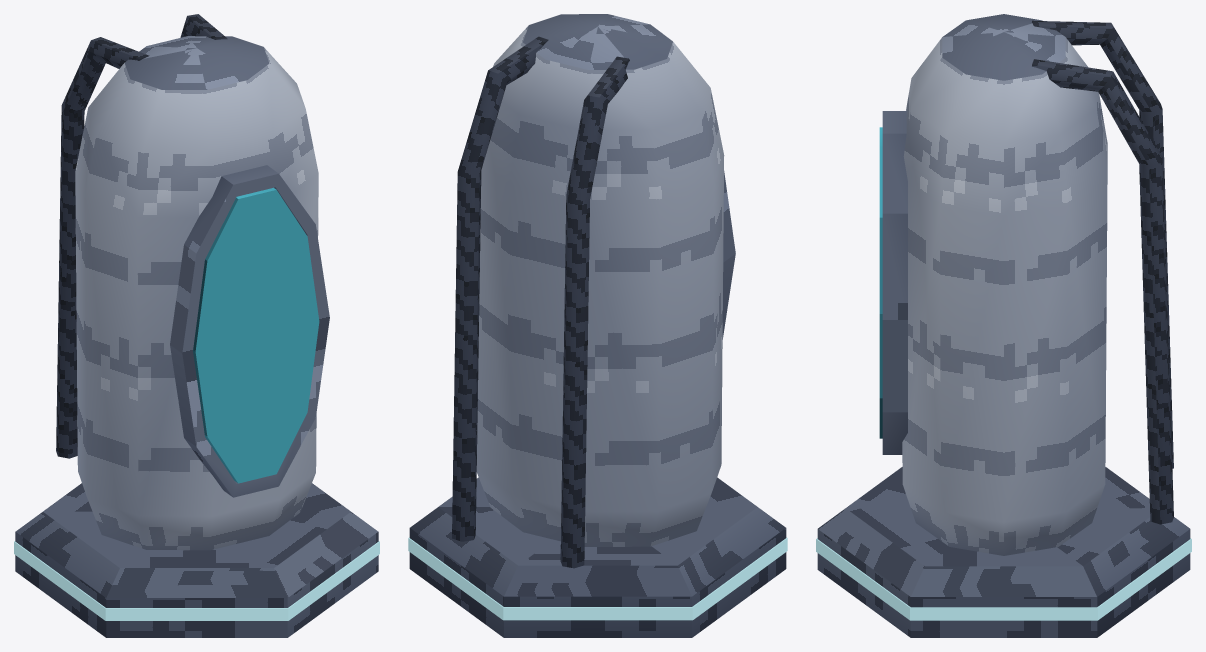
The model's file is tech.cryo_pod.glb.
3 views of the same model, side by side, from view 1: azimuth 30°, elevation 25°; view 2: azimuth 150°, elevation 25°; view 3: azimuth 270°, elevation 25° (orthographic). The views are drawn at different scales.
Parts seen in each view (by area): view 1: kit_shell, kit_plinth, kit_window, kit_frame, kit_hoses, kit_band; view 2: kit_shell, kit_plinth, kit_hoses, kit_band, kit_frame; view 3: kit_shell, kit_plinth, kit_hoses, kit_frame, kit_band, kit_window.
Boxes of the visible parts, x1=… form: kit_shell: x1=75, y1=36, x2=318, y2=550; kit_plinth: x1=15, y1=483, x2=378, y2=637; kit_window: x1=193, y1=187, x2=319, y2=483; kit_frame: x1=170, y1=165, x2=329, y2=497; kit_hoses: x1=56, y1=14, x2=227, y2=458; kit_band: x1=14, y1=541, x2=379, y2=620; kit_shell: x1=476, y1=14, x2=724, y2=546; kit_plinth: x1=409, y1=477, x2=786, y2=637; kit_hoses: x1=452, y1=36, x2=629, y2=568; kit_band: x1=408, y1=537, x2=787, y2=620; kit_frame: x1=722, y1=171, x2=735, y2=339; kit_shell: x1=902, y1=14, x2=1107, y2=555; kit_plinth: x1=817, y1=467, x2=1190, y2=637; kit_hoses: x1=1032, y1=20, x2=1173, y2=524; kit_frame: x1=882, y1=111, x2=907, y2=454; kit_band: x1=816, y1=538, x2=1191, y2=620; kit_window: x1=879, y1=127, x2=882, y2=438.
Size of the model in its own units: 1.15 by 2.1 by 1.33.
7 materials, 6 textured.
